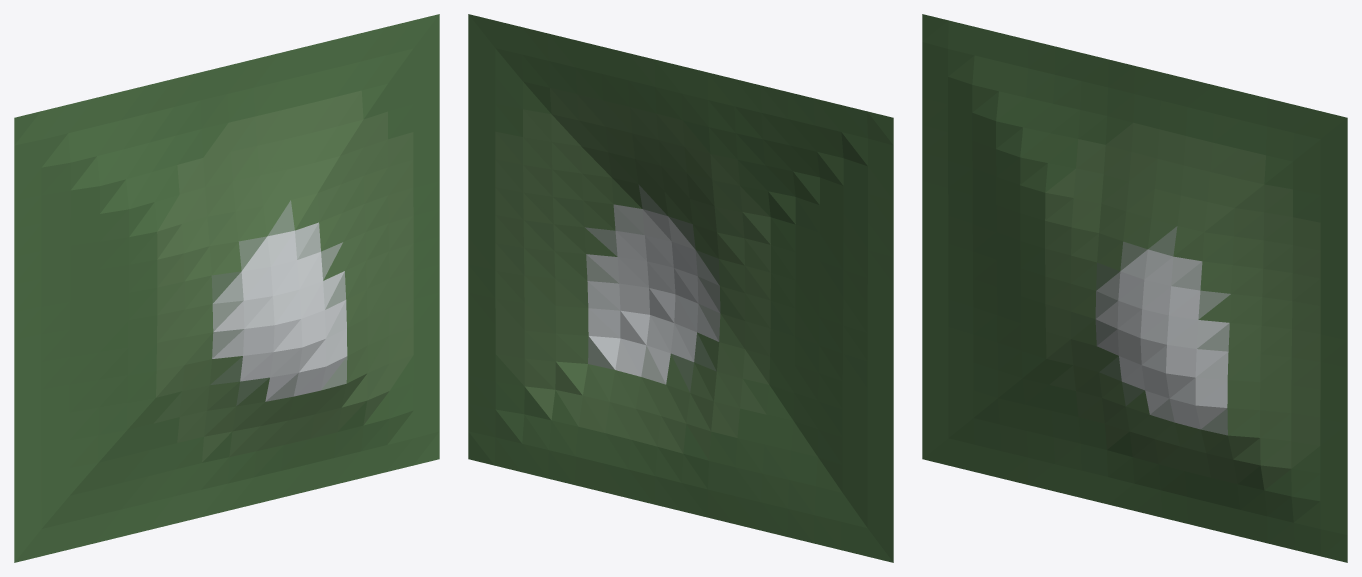
Rendered from shape_081_SVN_Terrain_1.glb.
3 views of the same model, side by side, from view 1: azimuth 30°, elevation 25°; view 2: azimuth 150°, elevation 25°; view 3: azimuth 330°, elevation 25° (orthographic).
Parts seen in each view (by area): view 1: SVN terrain 1; view 2: SVN terrain 1; view 3: SVN terrain 1.
Boxes of the visible parts, x1=… form: SVN terrain 1: x1=14, y1=14, x2=439, y2=562; SVN terrain 1: x1=468, y1=14, x2=893, y2=562; SVN terrain 1: x1=922, y1=14, x2=1347, y2=562.
Size of the model in its own units: 4096 by 4096 by 371.
